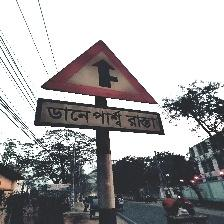Side-road-right: (37, 40, 163, 135)
